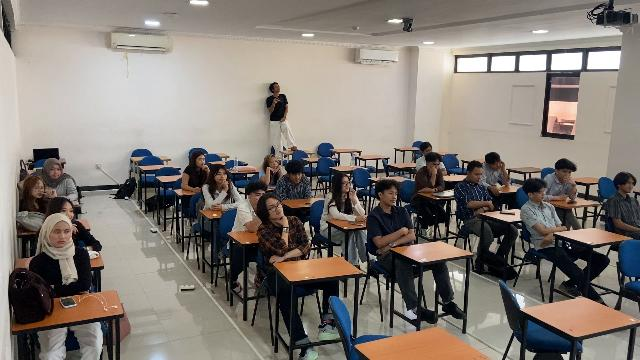bingung: (53, 225, 69, 247), (267, 200, 284, 218), (385, 189, 397, 206), (33, 181, 44, 198), (340, 177, 351, 193), (215, 170, 227, 183), (50, 165, 61, 179), (473, 169, 483, 184), (624, 178, 634, 193), (534, 188, 545, 201), (269, 157, 279, 170), (561, 168, 572, 179), (291, 173, 303, 183), (196, 156, 205, 168), (431, 161, 441, 171), (493, 161, 503, 170)
